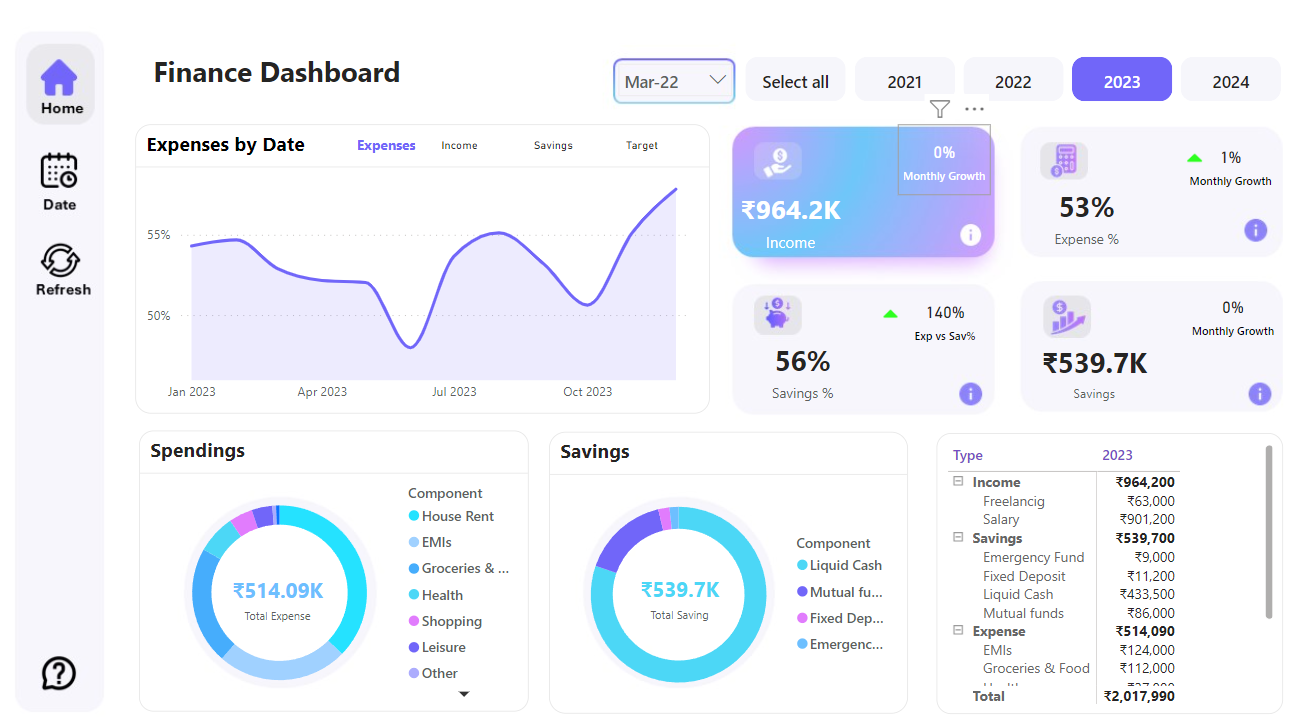

This screenshot's page, from the dashboard's own definition file:
{"tool":"powerbi","page":{"name":"Fin Dashboard","canvas":[1280,720],"ordinal":0},"visuals":[{"type":"card","fields":{"Values":["Key Measures.Total Income"]},"box":[718.4,187.4,109.3,65.6],"z":0},{"type":"card","fields":{"Values":["Key Measures.Expense %"]},"box":[999.6,182.7,118.7,65.6],"z":1000},{"type":"card","fields":{"Values":["Key Measures.Savings %"]},"box":[718.4,329.5,132.8,70.3],"z":2000},{"type":"card","fields":{"Values":["Key Measures.Total Saving"]},"box":[1001.1,329.5,131.2,71.8],"z":3000},{"type":"advancedSlicerVisual","fields":{"Values":["FinData.Year"]},"box":[724.4,56.7,529.6,53.1],"z":4000},{"type":"card","fields":{"Values":["Key Measures.Title"]},"box":[148.5,51.1,259,52.8],"z":5000},{"type":"donutChart","title":"Spendings","fields":{"Category":["FinData.Component"],"Y":["Divide(Key Measures.Total Expense, ScopedEval(Key Measures.Total Expense, []))"]},"box":[145.3,421.6,375.8,271.6],"z":6000},{"type":"areaChart","fields":{"Category":["FinData.Date"],"Y":["Key Measures.Trend_Hanle"]},"box":[140.6,126.5,554.4,279.6],"z":7000},{"type":"donutChart","title":"Savings","fields":{"Category":["FinData.Component"],"Y":["Divide(Key Measures.Total Saving, ScopedEval(Key Measures.Total Saving, []))"]},"box":[540.4,423.3,346.7,271.8],"z":8000},{"type":"advancedSlicerVisual","fields":{"Values":["Card_Handle.Type"]},"box":[338.1,127,359.6,42.9],"z":9000},{"type":"card","fields":{"Values":["Key Measures.Total Saving"]},"box":[618.6,546,95.7,74.2],"z":10000},{"type":"card","fields":{"Values":["Key Measures.Total Expense"]},"box":[216.1,539.4,125.4,90.7],"z":11000},{"type":"pivotTable","fields":{"Values":["Key Measures.Values"],"Columns":["FinData.Year","FinData.Date"],"Rows":["Type.Type","FinData.Component"]},"box":[914,425.1,334.8,271],"z":12000},{"type":"slicer","fields":{"Values":["Select_Month.Month-Yr"]},"box":[596.6,57.8,129.6,54.7],"z":13000},{"type":"card","title":"Monthly Growth","fields":{"Values":["Key Measures.Monthly_Growth"]},"box":[876.3,126.3,90,69.5],"z":14000},{"type":"card","title":"Monthly Growth","fields":{"Values":["Key Measures.Monthly_Expense_Growth"]},"box":[1153.1,131.1,90.3,69.1],"z":15000},{"type":"card","title":"Monthly Growth","fields":{"Values":["Key Measures.Monthy_Saving_Growth"]},"box":[876.3,285.8,91.6,60],"z":16000},{"type":"card","title":"Monthly Growth","fields":{"Values":["Key Measures.Monthly_Saving_Growth"]},"box":[1155.8,276.3,90,69.5],"z":17000},{"type":"cardVisual","fields":{"Data":["Key Measures.Arrow_icome"]},"box":[1131.8,131.1,72.6,51.4],"z":18000},{"type":"cardVisual","fields":{"Data":["Key Measures.Arrow_icome"]},"box":[1125.8,276.7,72.5,37.5],"z":19000},{"type":"cardVisual","fields":{"Data":["Key Measures.Arrow_Ex_vs_Savings"]},"box":[840.3,285.8,71.8,37.5],"z":20000},{"type":"cardVisual","fields":{"Data":["Key Measures.Arrow_Income_Savings"]},"box":[849.2,128.3,72.5,37.5],"z":21000},{"type":"actionButton","box":[34.4,235.8,65.6,68.7],"z":22000},{"type":"group","id":"g1","title":"Group 1","box":[35.3,146.6,402,314.1],"z":23000},{"type":"actionButton","box":[37.5,148.4,64,68.7],"z":24000},{"type":"cardVisual","fields":{"Data":["Key Measures.Total Saving"]},"box":[1197.3,359.4,48.8,43],"z":25000},{"type":"cardVisual","fields":{"Data":["Key Measures.Savings %"]},"box":[914.1,359.4,54.7,41],"z":26000},{"type":"cardVisual","fields":{"Data":["Key Measures.Total Income"]},"box":[912.2,199.2,56.6,54.7],"z":27000},{"type":"cardVisual","fields":{"Data":["Key Measures.Expense %"]},"box":[1198,199.7,47.9,51.1],"z":28000},{"type":"actionButton","box":[35.3,146.6,65.6,69.1],"z":33000,"group":"g1"}]}

Visuals, with their boxes on the page's 1280x720 design canvas (x1, y1, x2, y2). These are canvas units, not pixel positions in the 1307x722 screenshot, which may show the page scaled, cropped or inside an application window:
card - Key Measures.Total Income: {"x1": 718, "y1": 187, "x2": 828, "y2": 253}
card - Key Measures.Expense %: {"x1": 1000, "y1": 183, "x2": 1118, "y2": 248}
card - Key Measures.Savings %: {"x1": 718, "y1": 330, "x2": 851, "y2": 400}
card - Key Measures.Total Saving: {"x1": 1001, "y1": 330, "x2": 1132, "y2": 401}
advancedSlicerVisual - FinData.Year: {"x1": 724, "y1": 57, "x2": 1254, "y2": 110}
card - Key Measures.Title: {"x1": 148, "y1": 51, "x2": 408, "y2": 104}
"Spendings" donutChart: {"x1": 145, "y1": 422, "x2": 521, "y2": 693}
areaChart - FinData.Date x Key Measures.Trend_Hanle: {"x1": 141, "y1": 126, "x2": 695, "y2": 406}
"Savings" donutChart: {"x1": 540, "y1": 423, "x2": 887, "y2": 695}
advancedSlicerVisual - Card_Handle.Type: {"x1": 338, "y1": 127, "x2": 698, "y2": 170}
card - Key Measures.Total Saving: {"x1": 619, "y1": 546, "x2": 714, "y2": 620}
card - Key Measures.Total Expense: {"x1": 216, "y1": 539, "x2": 342, "y2": 630}
pivotTable - Key Measures.Values x FinData.Year: {"x1": 914, "y1": 425, "x2": 1249, "y2": 696}
slicer - Select_Month.Month-Yr: {"x1": 597, "y1": 58, "x2": 726, "y2": 112}
"Monthly Growth" card: {"x1": 876, "y1": 126, "x2": 966, "y2": 196}
"Monthly Growth" card: {"x1": 1153, "y1": 131, "x2": 1243, "y2": 200}
"Monthly Growth" card: {"x1": 876, "y1": 286, "x2": 968, "y2": 346}
"Monthly Growth" card: {"x1": 1156, "y1": 276, "x2": 1246, "y2": 346}
cardVisual - Key Measures.Arrow_icome: {"x1": 1132, "y1": 131, "x2": 1204, "y2": 182}
cardVisual - Key Measures.Arrow_icome: {"x1": 1126, "y1": 277, "x2": 1198, "y2": 314}
cardVisual - Key Measures.Arrow_Ex_vs_Savings: {"x1": 840, "y1": 286, "x2": 912, "y2": 323}
cardVisual - Key Measures.Arrow_Income_Savings: {"x1": 849, "y1": 128, "x2": 922, "y2": 166}
actionButton: {"x1": 34, "y1": 236, "x2": 100, "y2": 304}
"Group 1" group: {"x1": 35, "y1": 147, "x2": 437, "y2": 461}
actionButton: {"x1": 38, "y1": 148, "x2": 102, "y2": 217}
cardVisual - Key Measures.Total Saving: {"x1": 1197, "y1": 359, "x2": 1246, "y2": 402}
cardVisual - Key Measures.Savings %: {"x1": 914, "y1": 359, "x2": 969, "y2": 400}
cardVisual - Key Measures.Total Income: {"x1": 912, "y1": 199, "x2": 969, "y2": 254}
cardVisual - Key Measures.Expense %: {"x1": 1198, "y1": 200, "x2": 1246, "y2": 251}
actionButton: {"x1": 35, "y1": 147, "x2": 101, "y2": 216}
